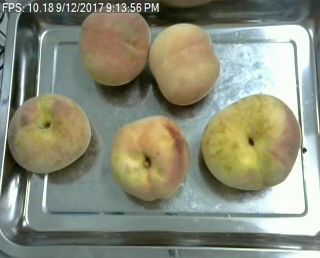Peach: (201, 92, 301, 190), (7, 92, 92, 173), (110, 114, 188, 200), (78, 3, 150, 86), (148, 22, 220, 104)
